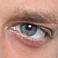eye: (20, 24, 36, 35)
